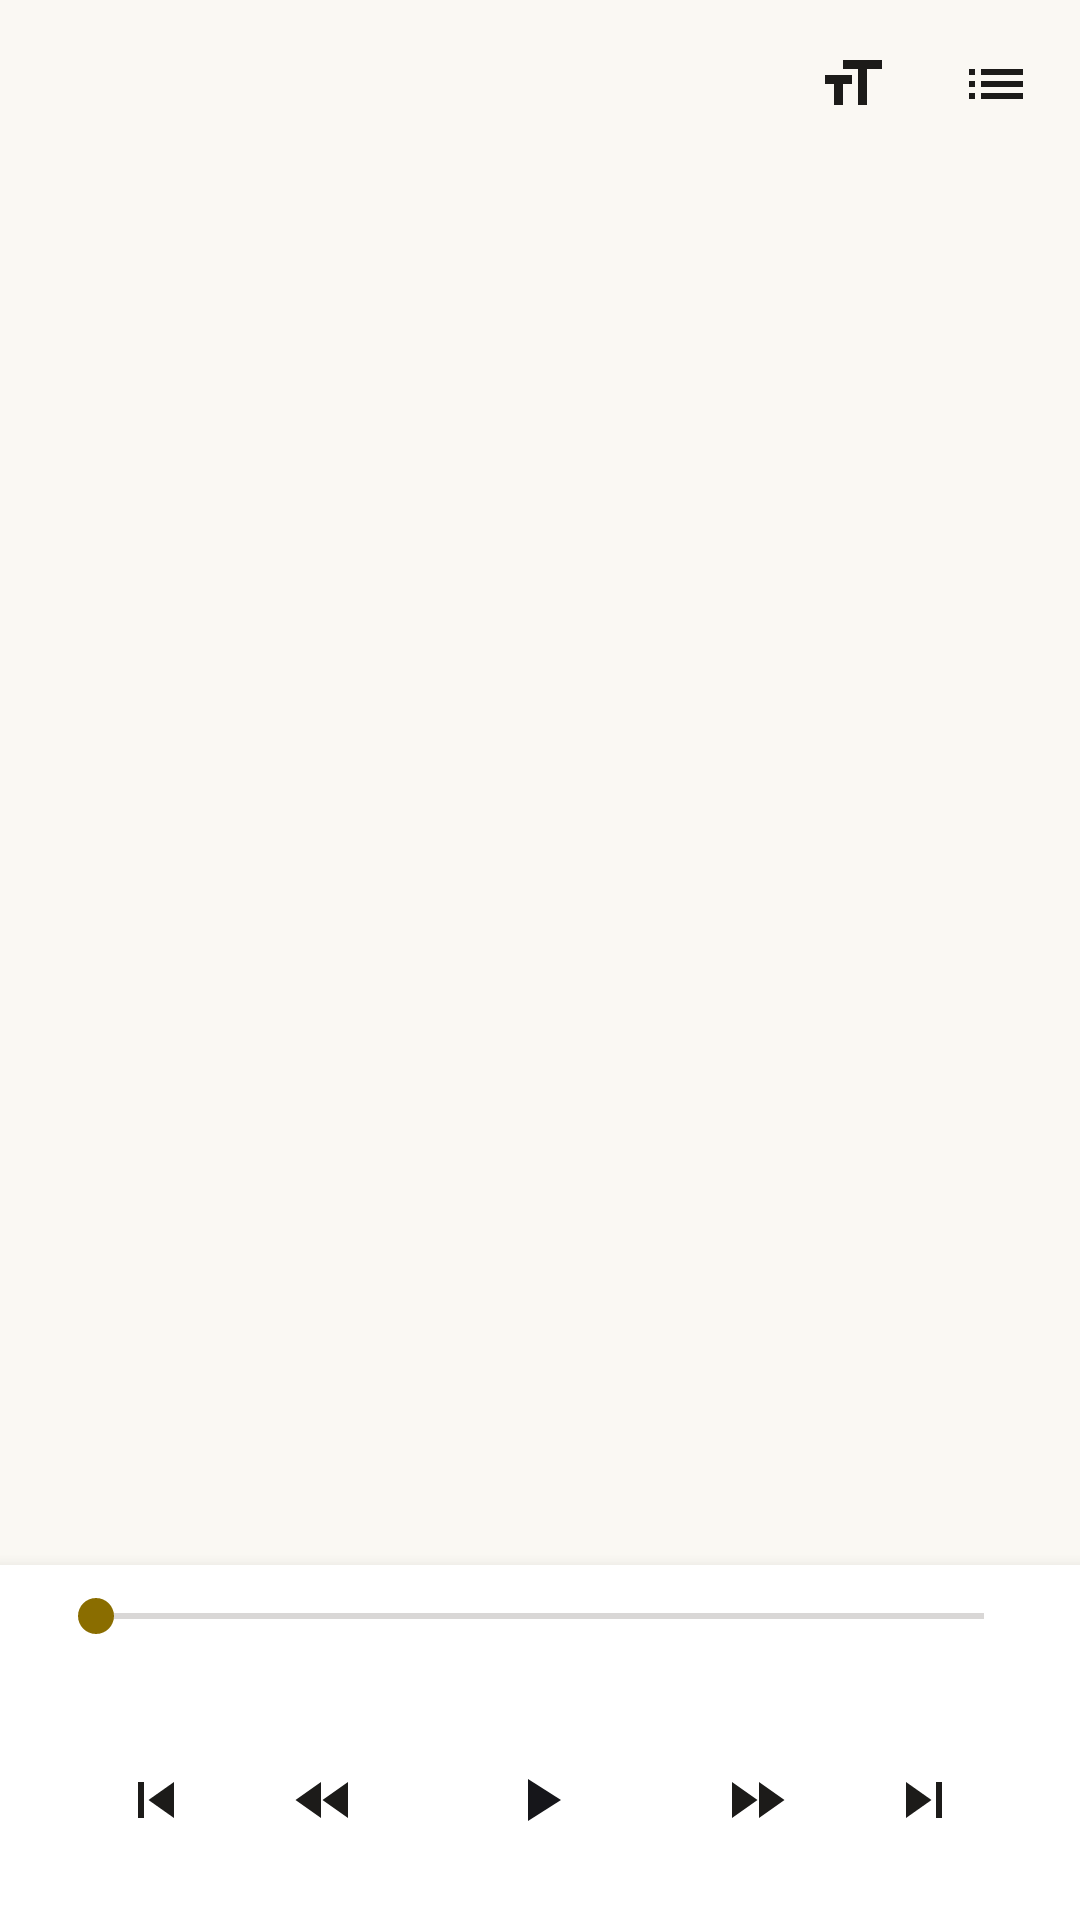

Point at icon controls on the screen. Image size 1080px x 1920px, points as point (x, y).
Contents: point (996, 84)
Next chapter: point (924, 1800)
Next sentence: point (758, 1800)
Previous chapter: point (156, 1800)
Previous sentence: point (322, 1800)
Read aloud: point (544, 1800)
Text size: point (853, 82)
